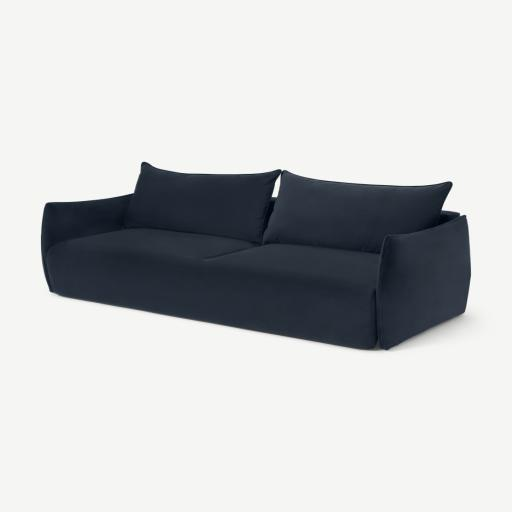back_cushion: (125, 162, 451, 252)
left_arm: (376, 216, 470, 349)
right_arm: (41, 194, 132, 291)
seat_cushion: (46, 229, 377, 348)
two-seater: (0, 0, 511, 512)
